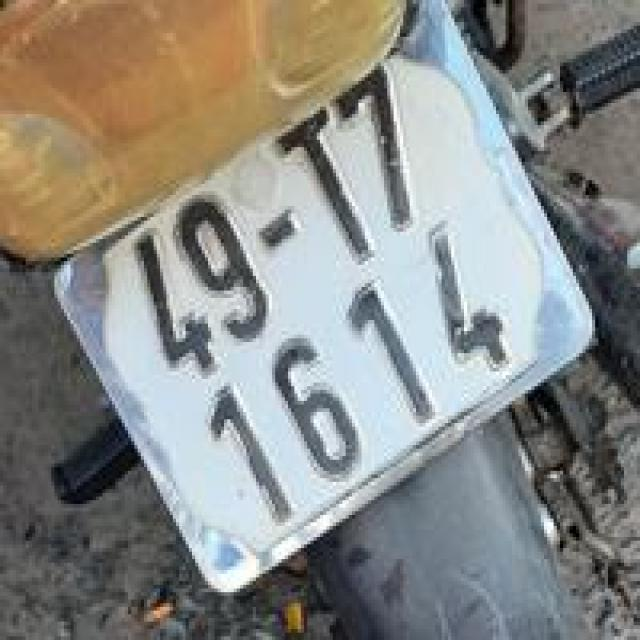1: (323, 258, 460, 449), (183, 363, 321, 550)
4: (386, 196, 541, 403), (116, 213, 236, 410)
6: (252, 313, 391, 500)
7: (323, 49, 438, 250)
9: (160, 175, 292, 366)
T: (264, 94, 394, 291)
